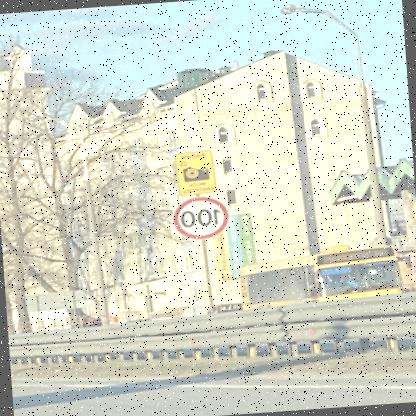speedlimit: (174, 194, 232, 239)
